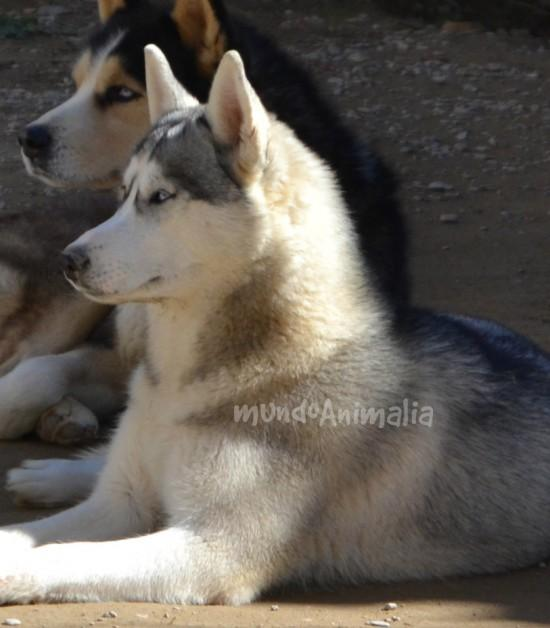husky: (61, 31, 375, 402)
